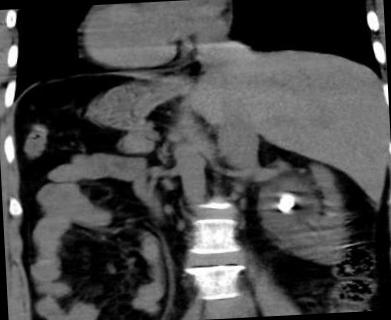Tas_Var: (274, 192, 296, 216)
